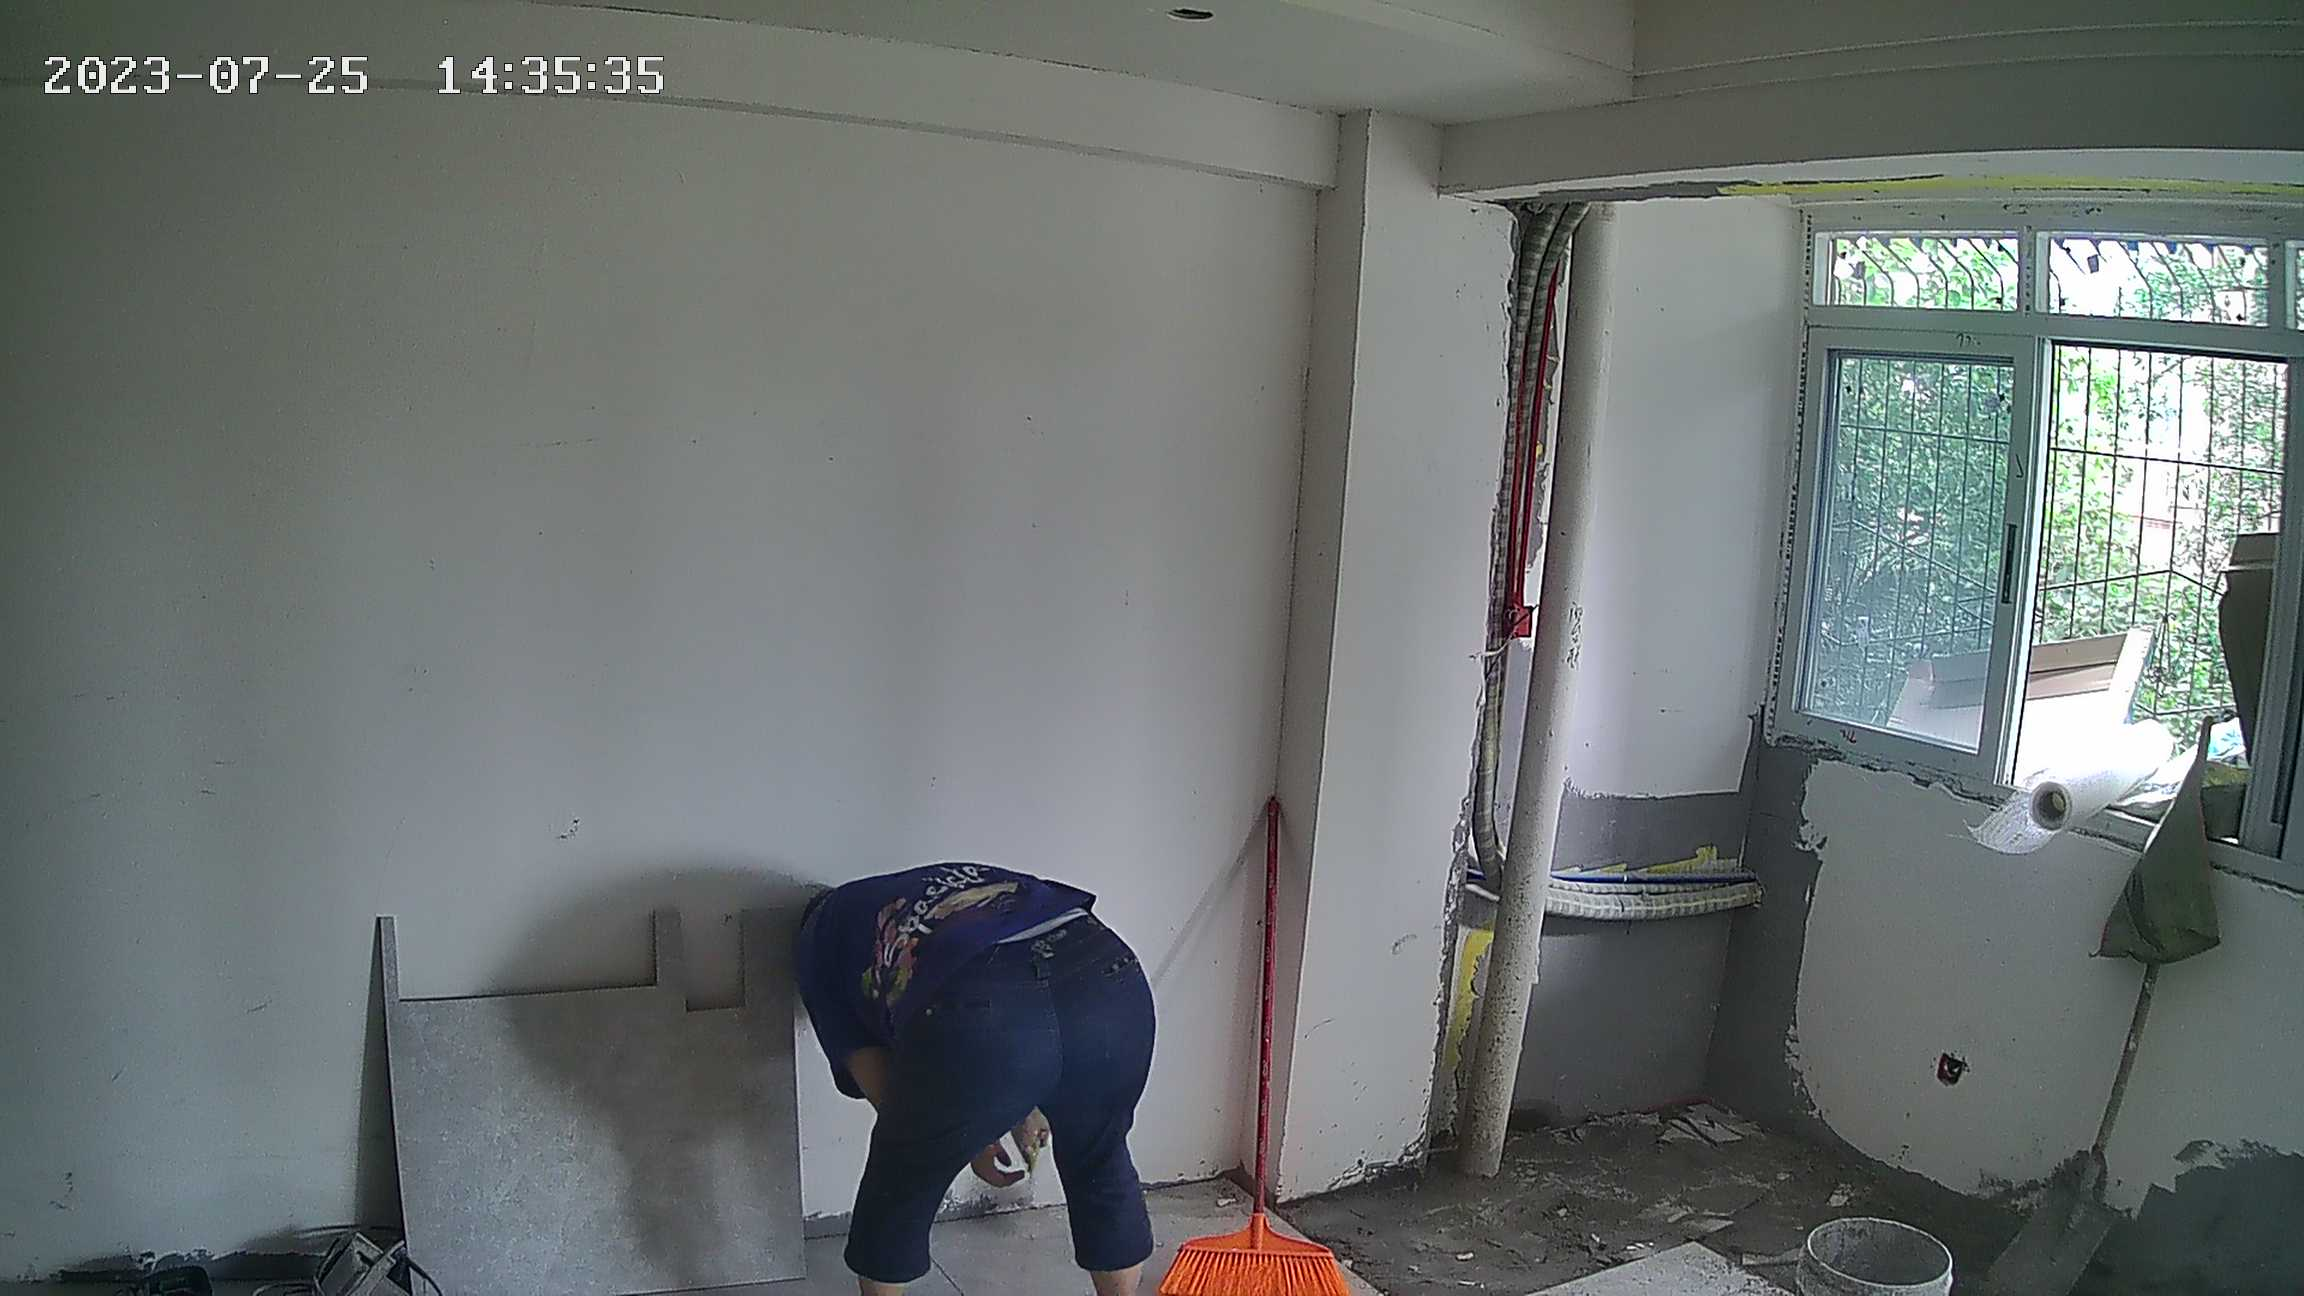people: (788, 855, 1155, 1296)
window: (1801, 228, 2296, 852)
